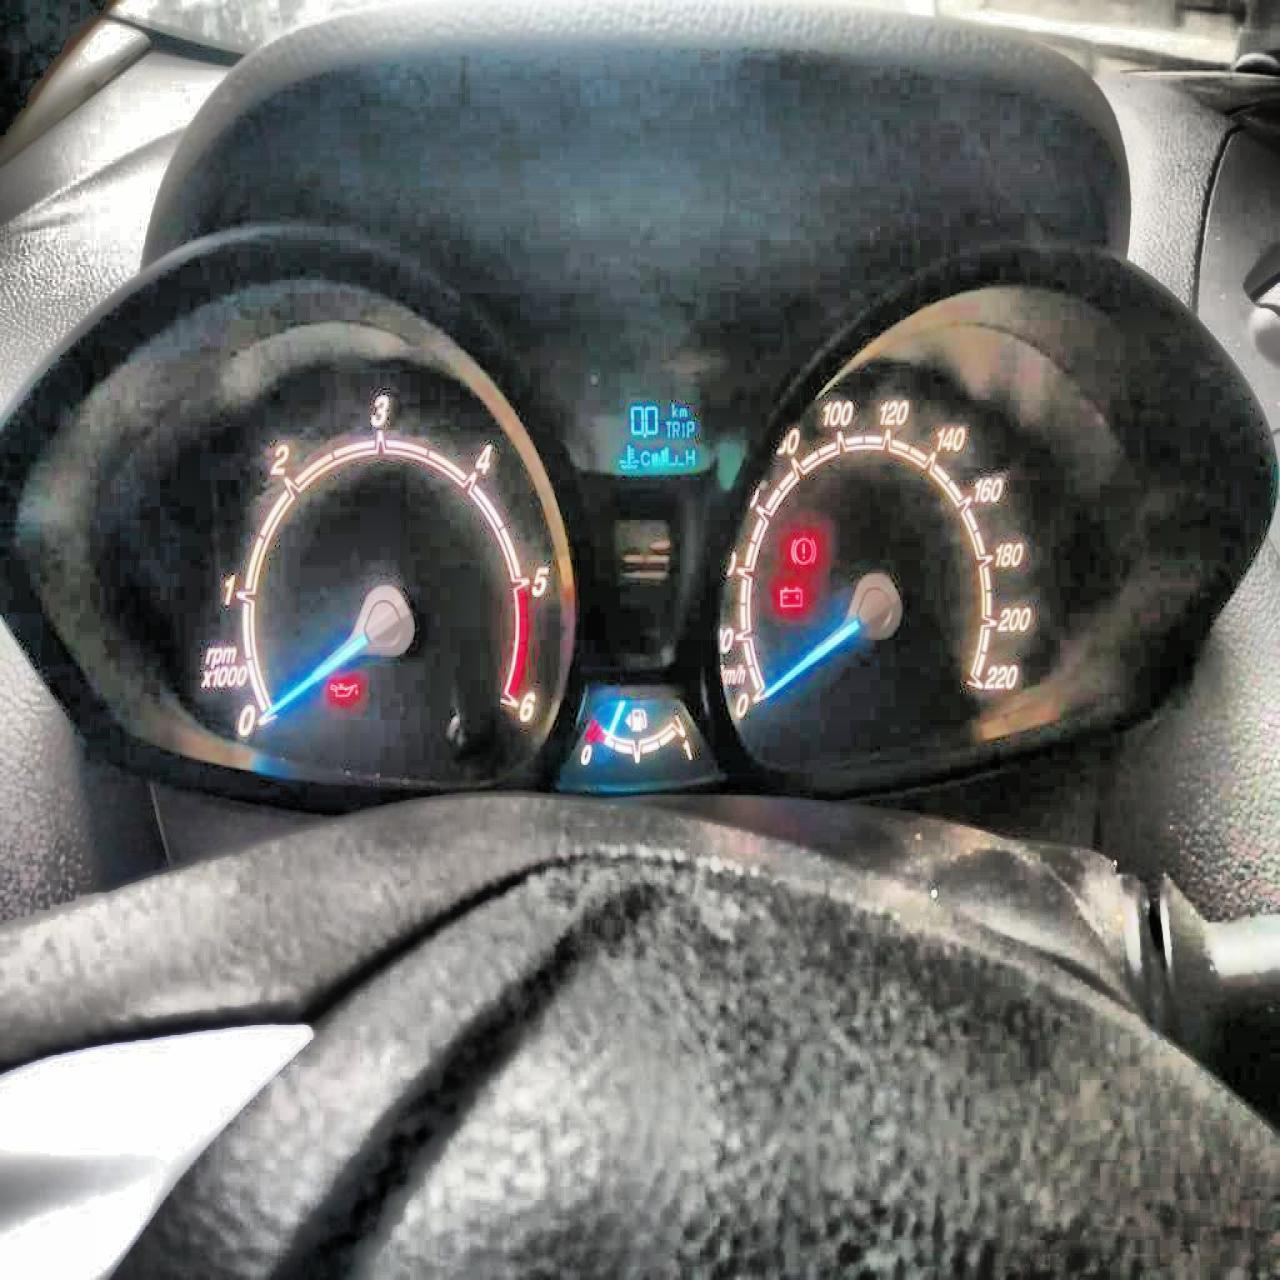-: (641, 431, 647, 438)
0: (642, 402, 658, 434), (628, 403, 642, 434)
X: (685, 447, 695, 465), (685, 418, 695, 437), (639, 448, 649, 467), (663, 418, 672, 437), (670, 421, 680, 437), (678, 406, 687, 417), (669, 402, 676, 416), (680, 421, 685, 437)
odometer: (568, 386, 731, 486)
